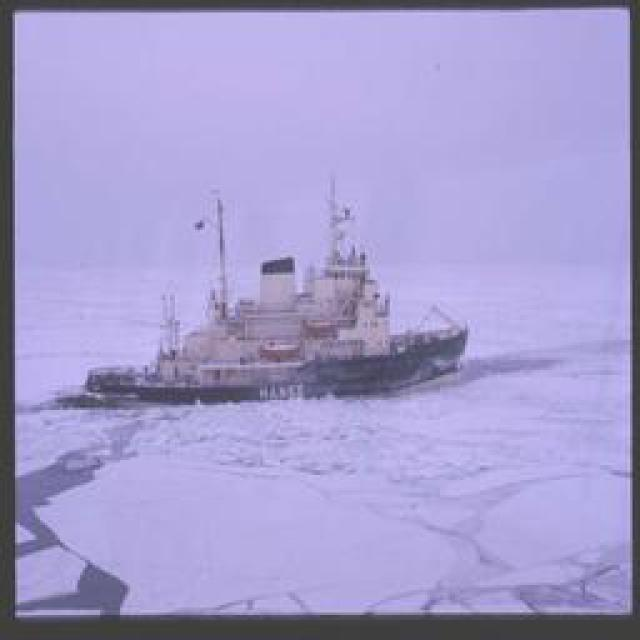Ship: (66, 171, 474, 401)
